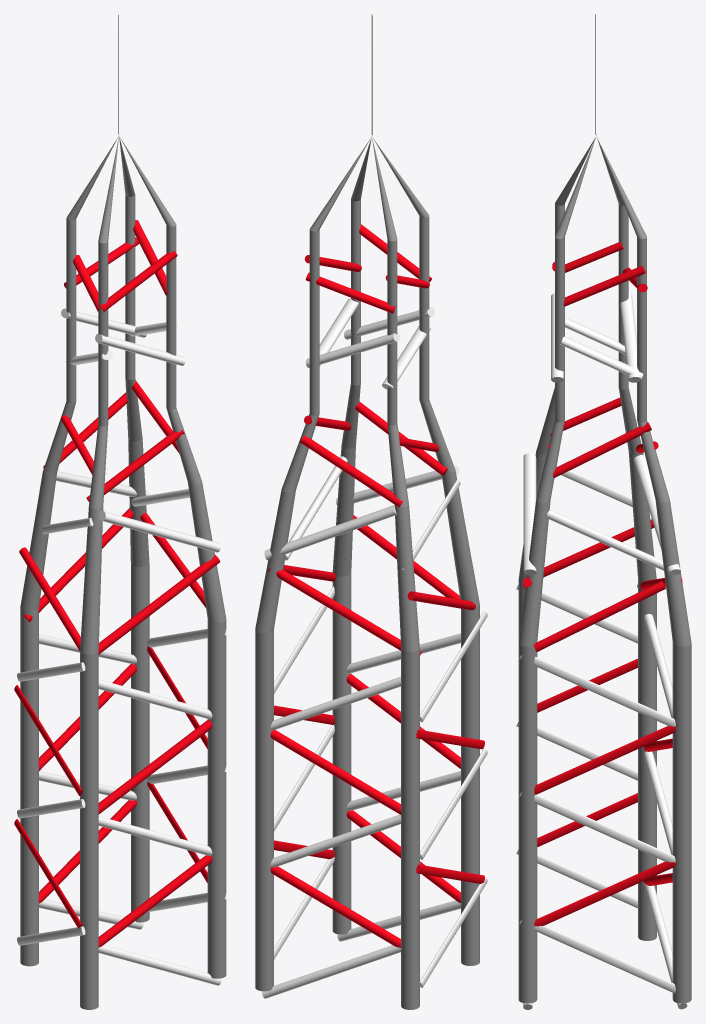
The model's file is tall_radio_mast.fbx.
3 views of the same model, side by side, from view 1: azimuth 30°, elevation 25°; view 2: azimuth 150°, elevation 25°; view 3: azimuth 270°, elevation 25° (orthographic).
Visible parts, largest first — view 1: Cylinder.003; view 2: Cylinder.003; view 3: Cylinder.003.
Part boxes in pixels (x1,y1,x2,y2): Cylinder.003: (14, 14, 226, 1009); Cylinder.003: (255, 14, 487, 1009); Cylinder.003: (516, 14, 691, 1009).
Bounding box in the file's own units: 45.89 × 284 × 46.72.
